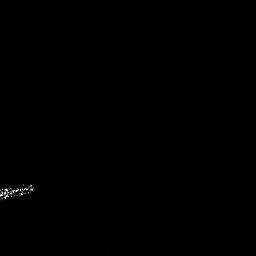ship: (1, 182, 35, 202)
